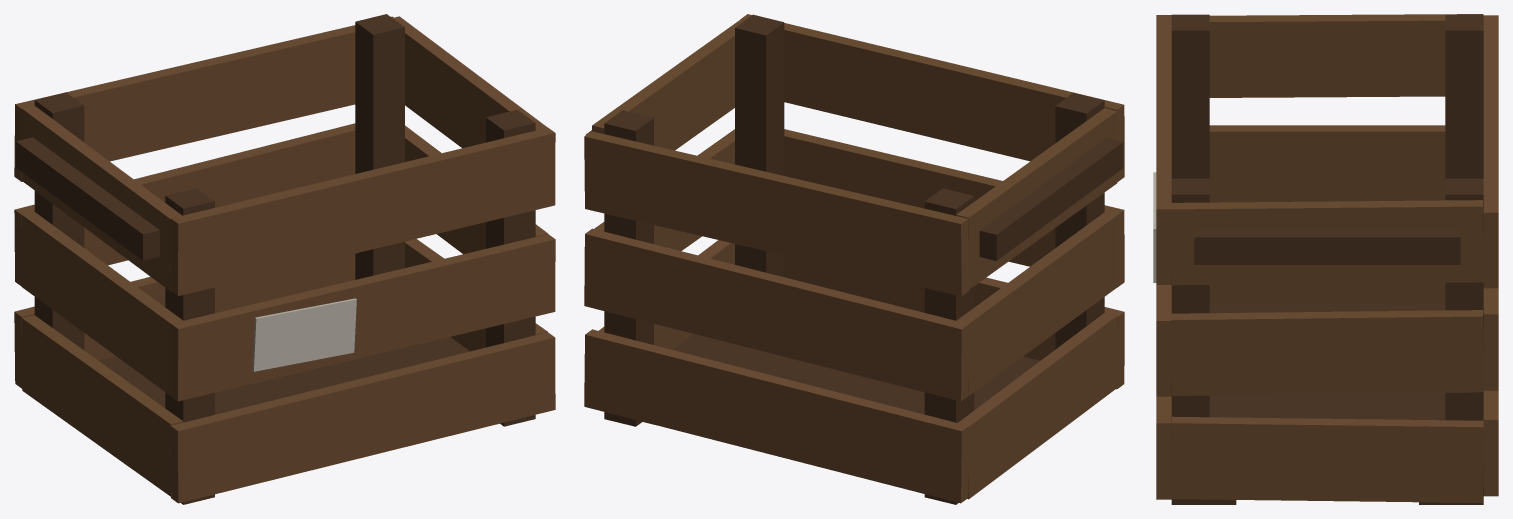
File: Krat.glb
3 views of the same model, side by side, from view 1: azimuth 30°, elevation 25°; view 2: azimuth 150°, elevation 25°; view 3: azimuth 270°, elevation 25° (orthographic). The views are drawn at different scales.
Parts seen in each view (by area): view 1: Slats, Frame, Label; view 2: Slats, Frame; view 3: Slats, Frame, Label.
Part boxes in pixels (x1,y1,x2,y2): Slats: [14, 16, 555, 503]; Frame: [16, 14, 535, 504]; Label: [252, 298, 356, 371]; Slats: [584, 14, 1124, 503]; Frame: [586, 14, 1123, 504]; Slats: [1156, 14, 1498, 502]; Frame: [1171, 14, 1483, 504]; Label: [1153, 172, 1156, 282].
Bounding box in the file's own units: 0.654 × 0.45 × 0.454.
